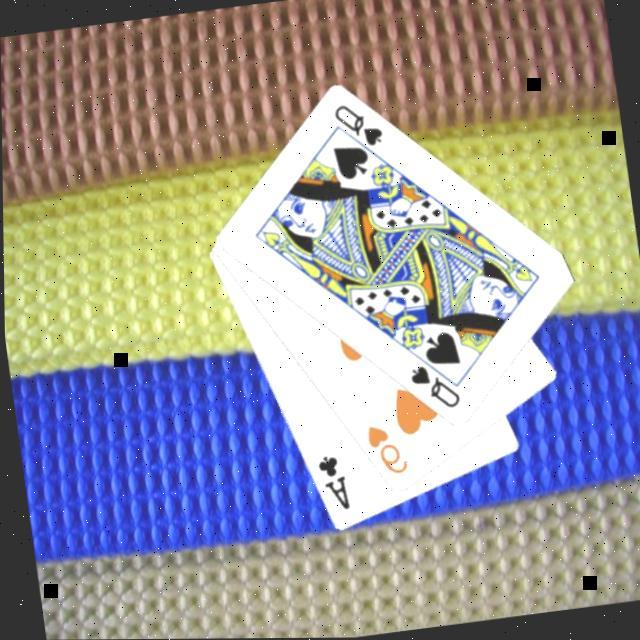6H: (360, 421, 411, 483)
AC: (310, 452, 351, 518)
QS: (403, 361, 462, 418), (327, 100, 386, 156)
